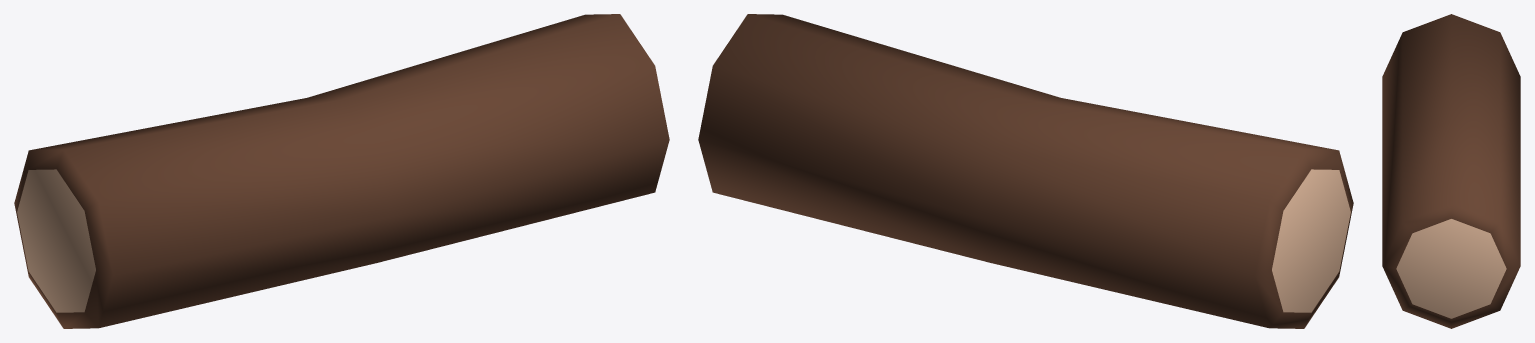
Rendered from wood.fbx.
3 views of the same model, side by side, from view 1: azimuth 30°, elevation 25°; view 2: azimuth 150°, elevation 25°; view 3: azimuth 270°, elevation 25° (orthographic). The views are drawn at different scales.
Visible parts, largest first — view 1: log; view 2: log; view 3: log.
Boxes of the visible parts, left/top/right/bottom form: log: left=14, top=14, right=669, bottom=328; log: left=698, top=14, right=1353, bottom=328; log: left=1382, top=14, right=1520, bottom=328.
Bounding box in the file's own units: 68 × 20.4 × 20.4.
